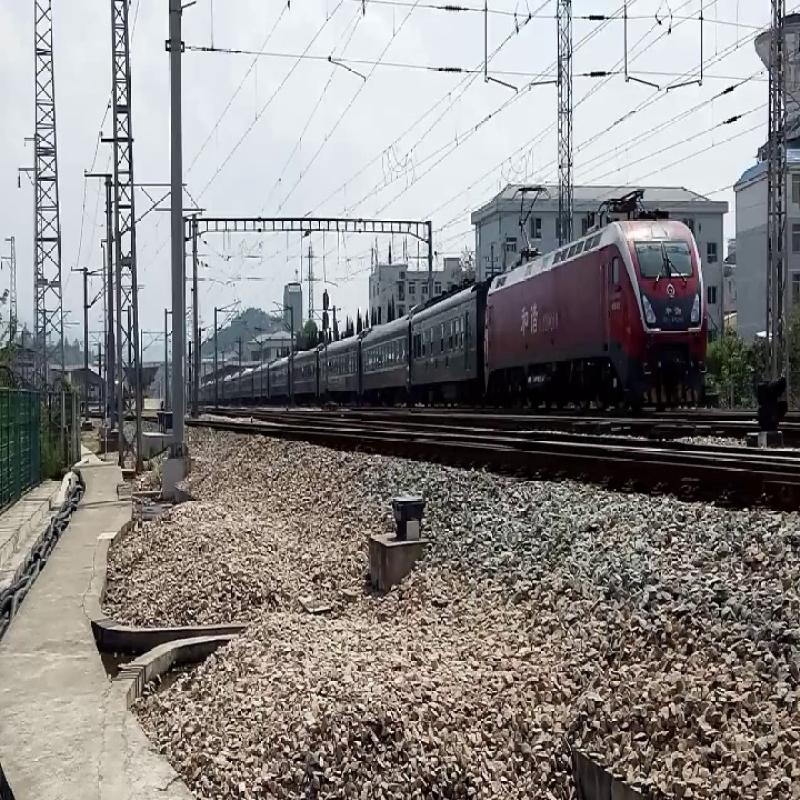train: (311, 251, 709, 411)
